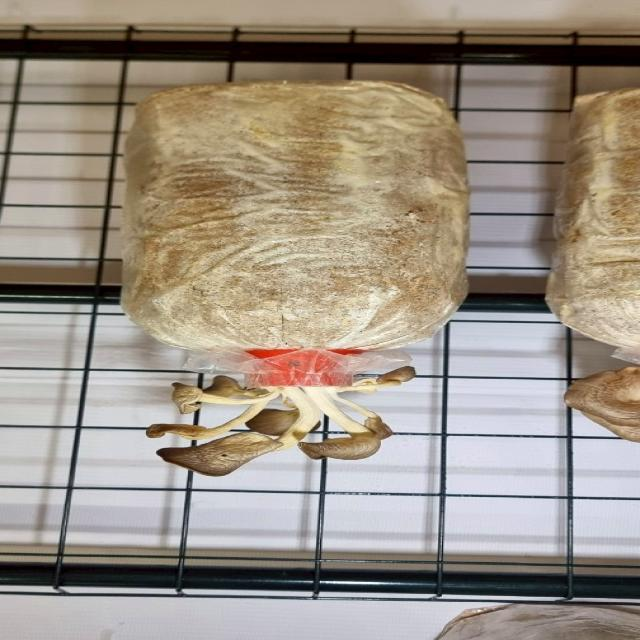abnormal: (131, 430, 291, 480), (291, 385, 382, 465), (134, 369, 284, 414), (314, 363, 425, 408)
